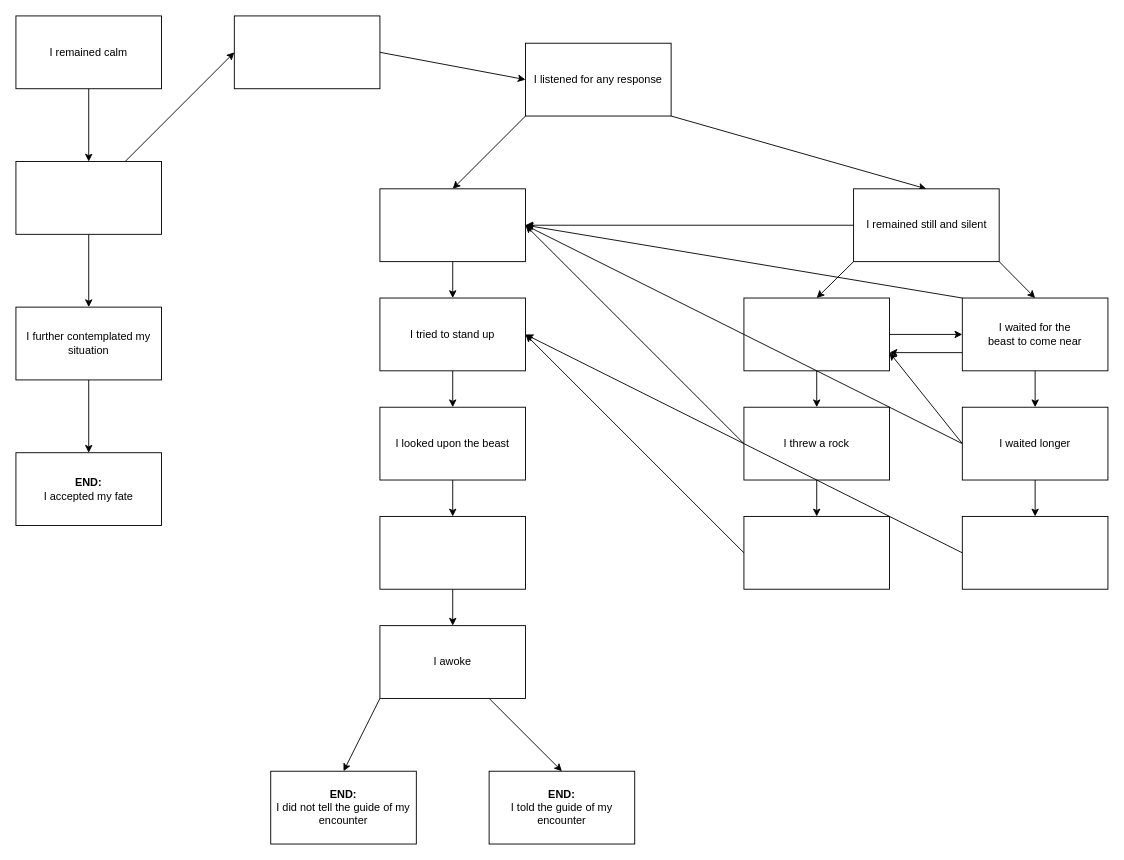
Some shapes in this 1124 by 860 pixel diagram are drawn without their labels. Each missing label, with the centre of its shape:
"I continued to wait" belongs at (x=88, y=197).
"I fled" belongs at (x=452, y=225).
"I lost consciousness" belongs at (x=452, y=552).
"I searched for a weapon" belongs at (x=816, y=334).
"I shouted for help" belongs at (x=306, y=52).
"I stood my ground" belongs at (x=1034, y=552).
"I threw another rock" belongs at (x=816, y=552).
